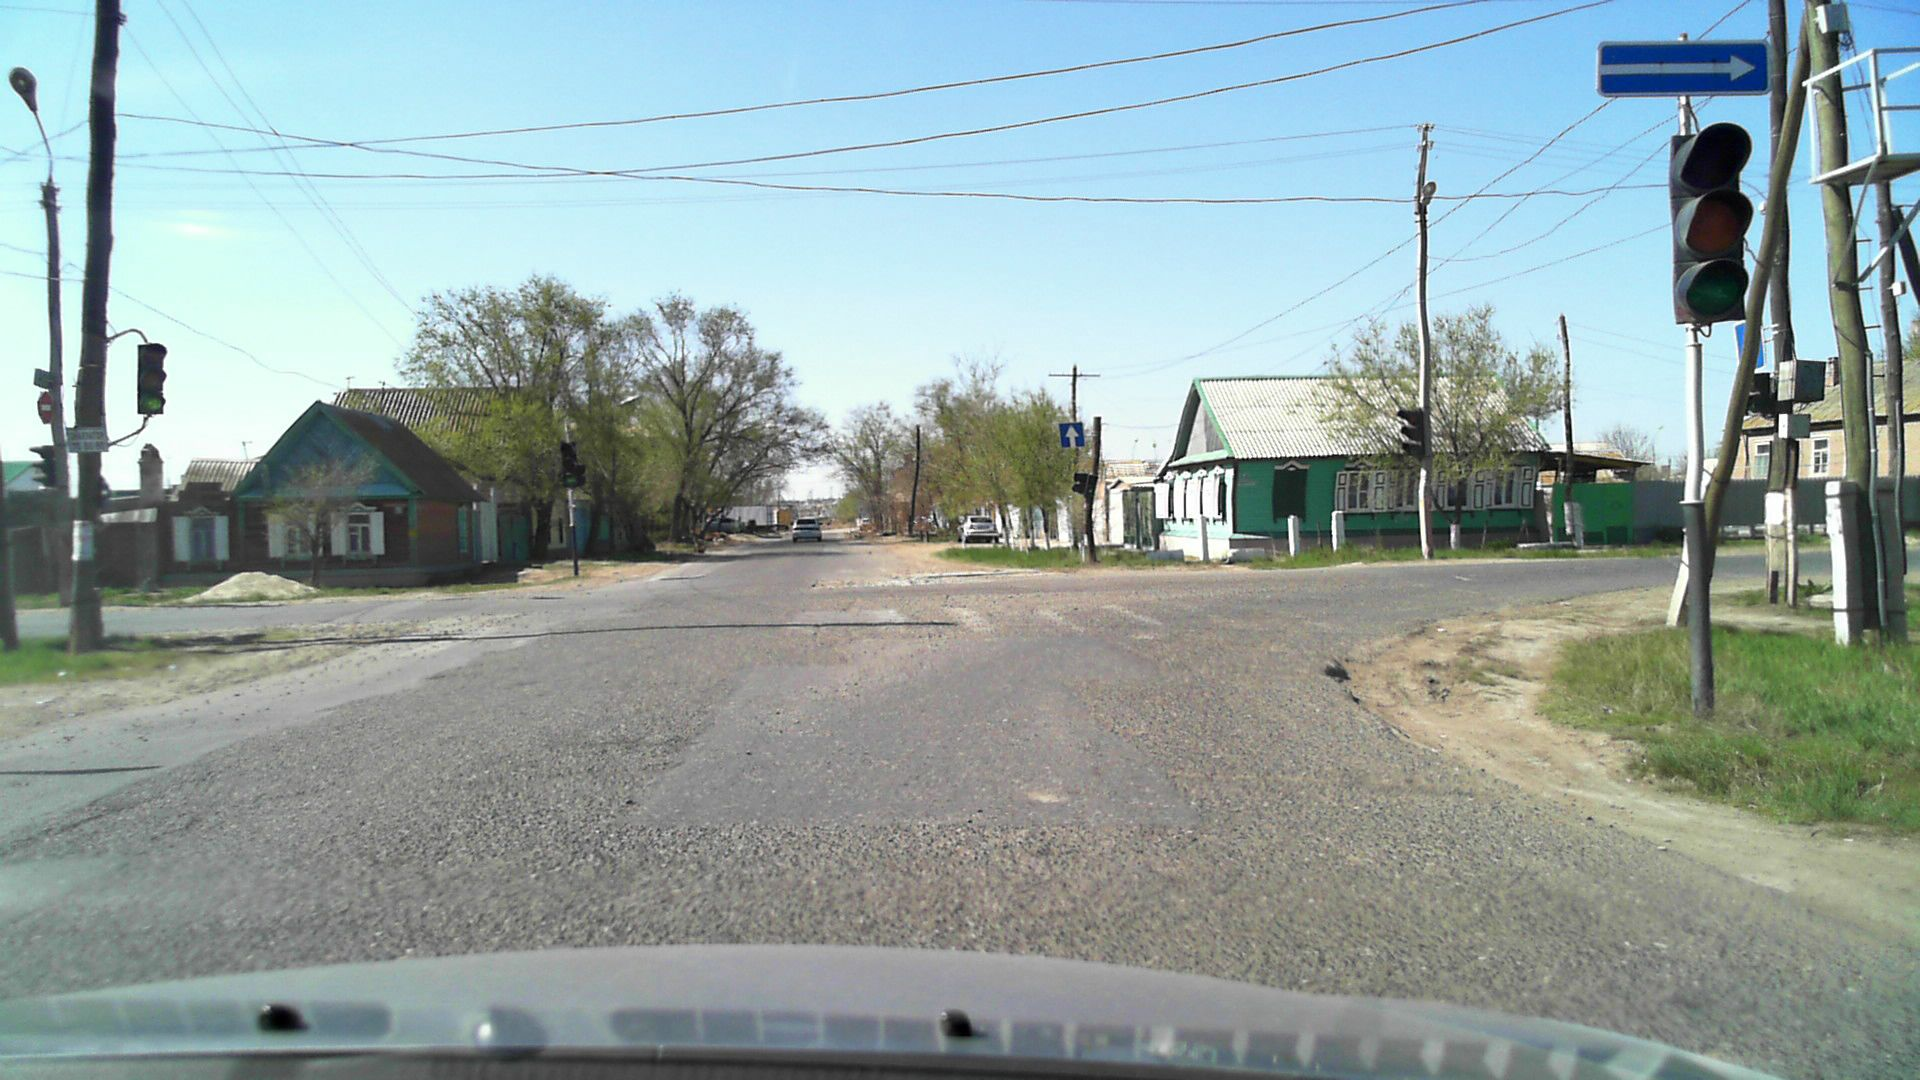One-Way Traffic: (1598, 42, 1768, 94)
